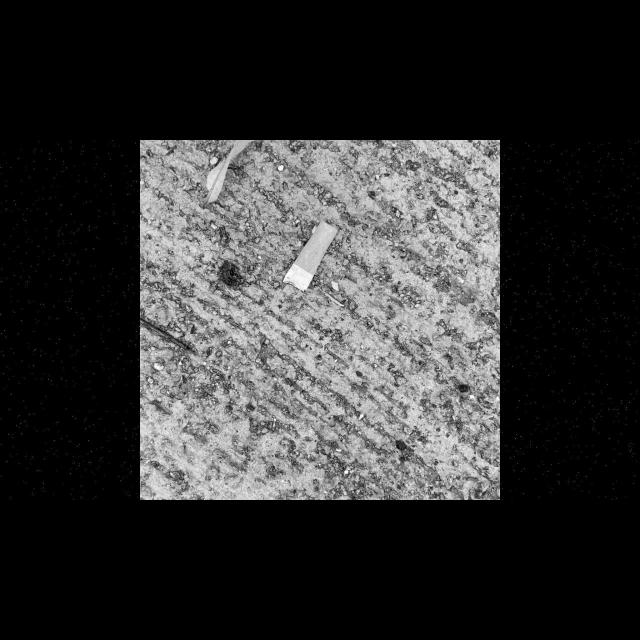cigarette: (282, 220, 338, 292)
